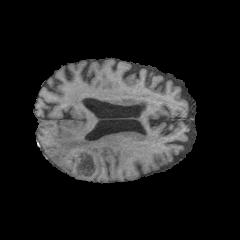glioma: (44, 135, 124, 179)
